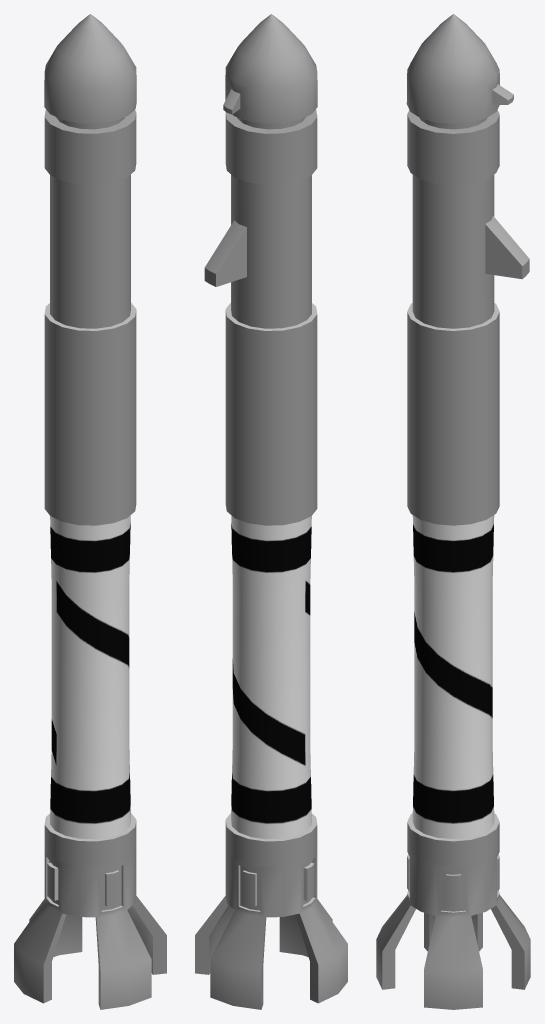
Rendered from Missile_6.fbx.
3 views of the same model, side by side, from view 1: azimuth 30°, elevation 25°; view 2: azimuth 150°, elevation 25°; view 3: azimuth 270°, elevation 25° (orthographic).
Parts seen in each view (by area): view 1: Cylinder, Cylinder_1; view 2: Cylinder, Cylinder_1; view 3: Cylinder, Cylinder_1.
Part boxes in pixels (x1,y1,x2,y2): Cylinder: (14,14,166,1009); Cylinder_1: (50,515,130,839); Cylinder: (195,14,347,1009); Cylinder_1: (231,515,311,839); Cylinder: (376,14,530,1009); Cylinder_1: (412,515,494,838).
Size of the model in its own units: 0.2919 by 2.01 by 0.2919.
